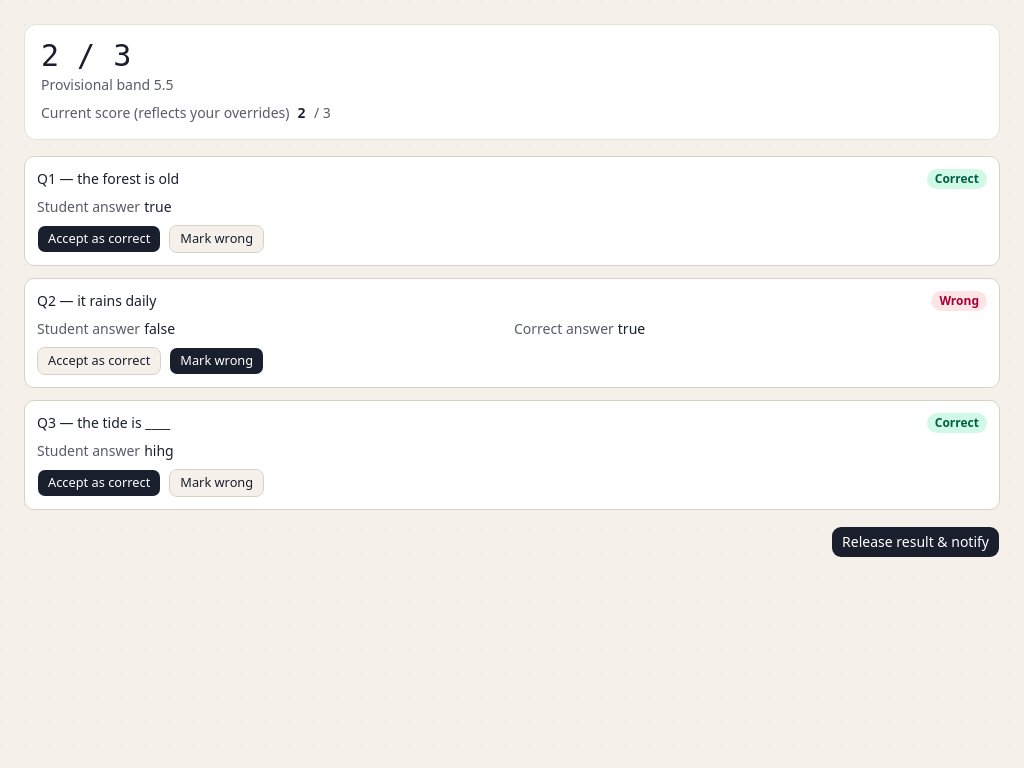
it: ObjectiveGradingPage — override optimistic seed (AC8) › [P1] AC8 — the recomputed AutoGradeView seeds the cache so After-overrides updates BEFORE the invalidation refetch resolves
Click the button "Accept as correct" below "Q2 — it rains daily". click: (99, 361)
box: [37,347,161,375]
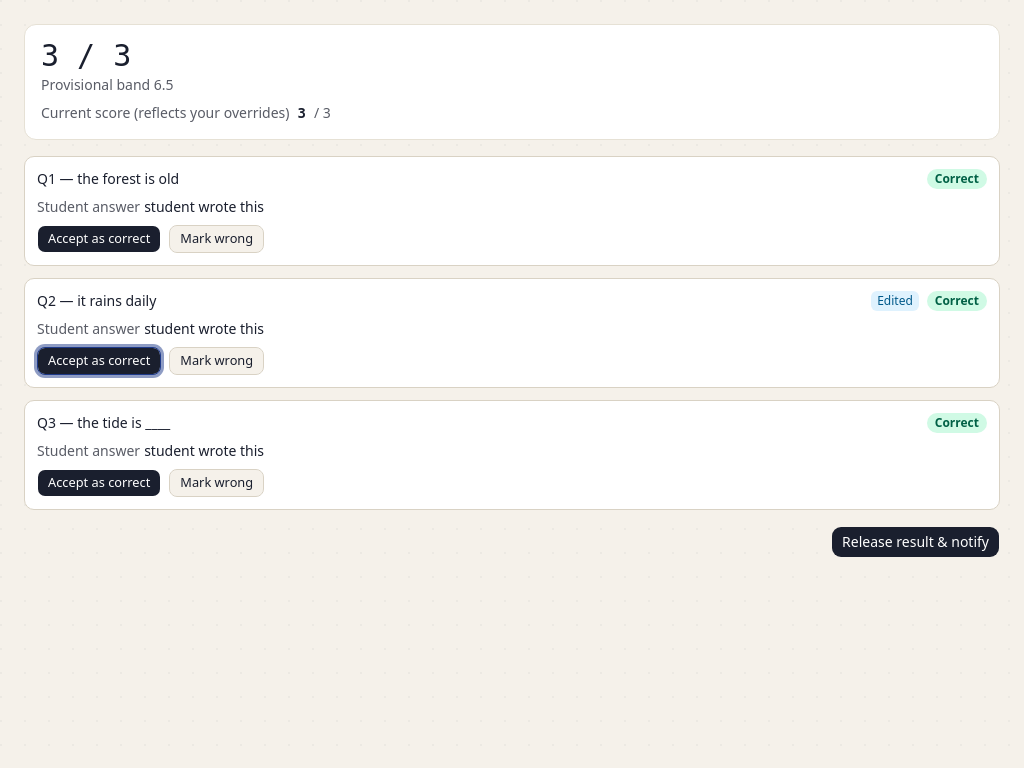
Check: the text with test id "objective-after-overrides" reads "3", box [298,105,306,121]
